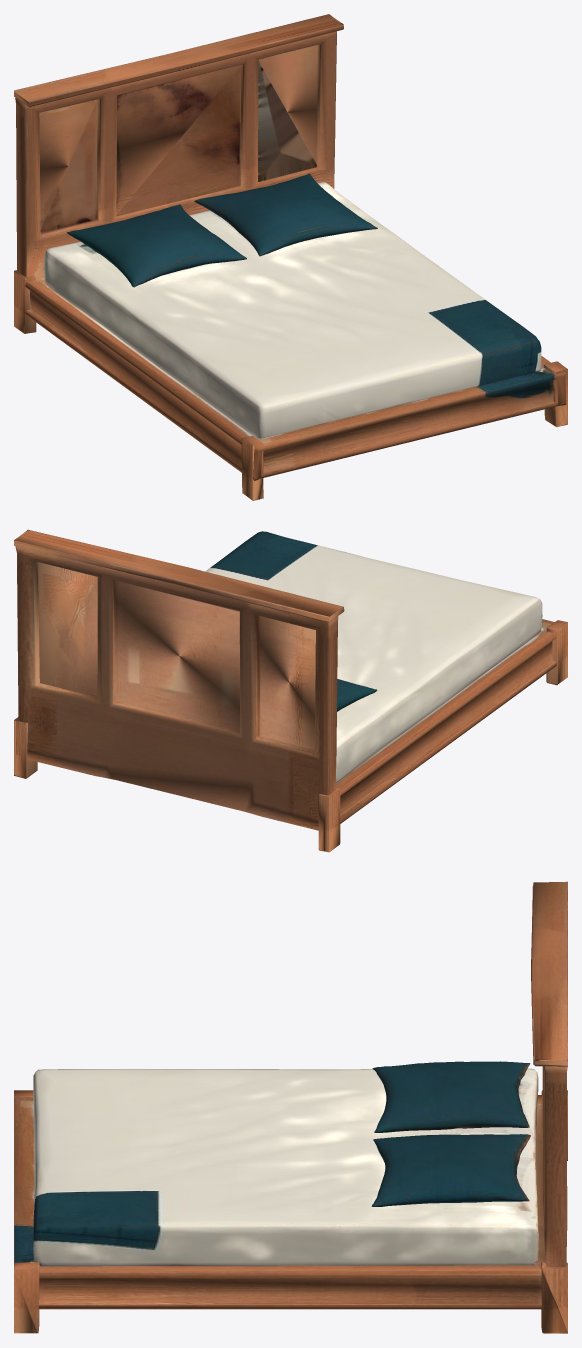
The model's file is double-bed.glb.
3 views of the same model, one above another, from view 1: azimuth 30°, elevation 25°; view 2: azimuth 150°, elevation 25°; view 3: azimuth 270°, elevation 25° (orthographic). The views are drawn at different scales.
Bounding box in the file's own units: 1.6 × 1.15 × 2.1.
Materials: 1 (1 with a texture image).
